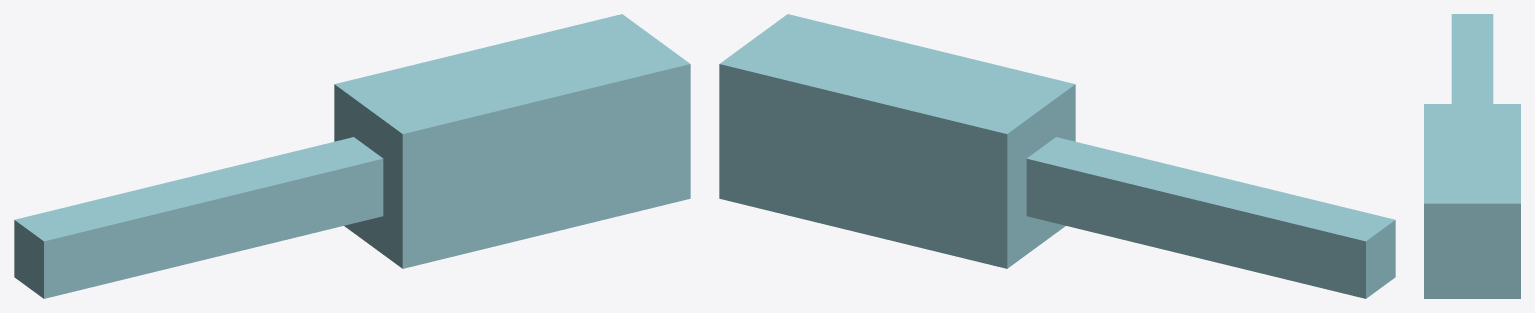
File: cuboid_brush_v8008.obj
3 views of the same model, side by side, from view 1: azimuth 30°, elevation 25°; view 2: azimuth 150°, elevation 25°; view 3: azimuth 270°, elevation 25° (orthographic). The views are drawn at different scales.
Size of the model in its own units: 0.2281 by 0.0468 by 0.043.
Materials: 1 (1 with a texture image).
